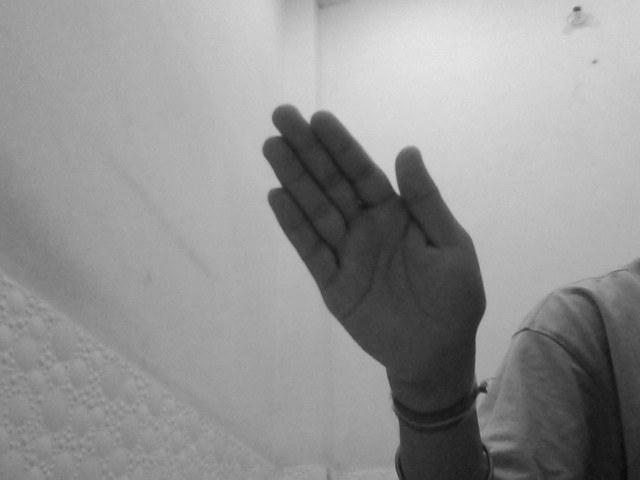Hello: (249, 98, 504, 386)
